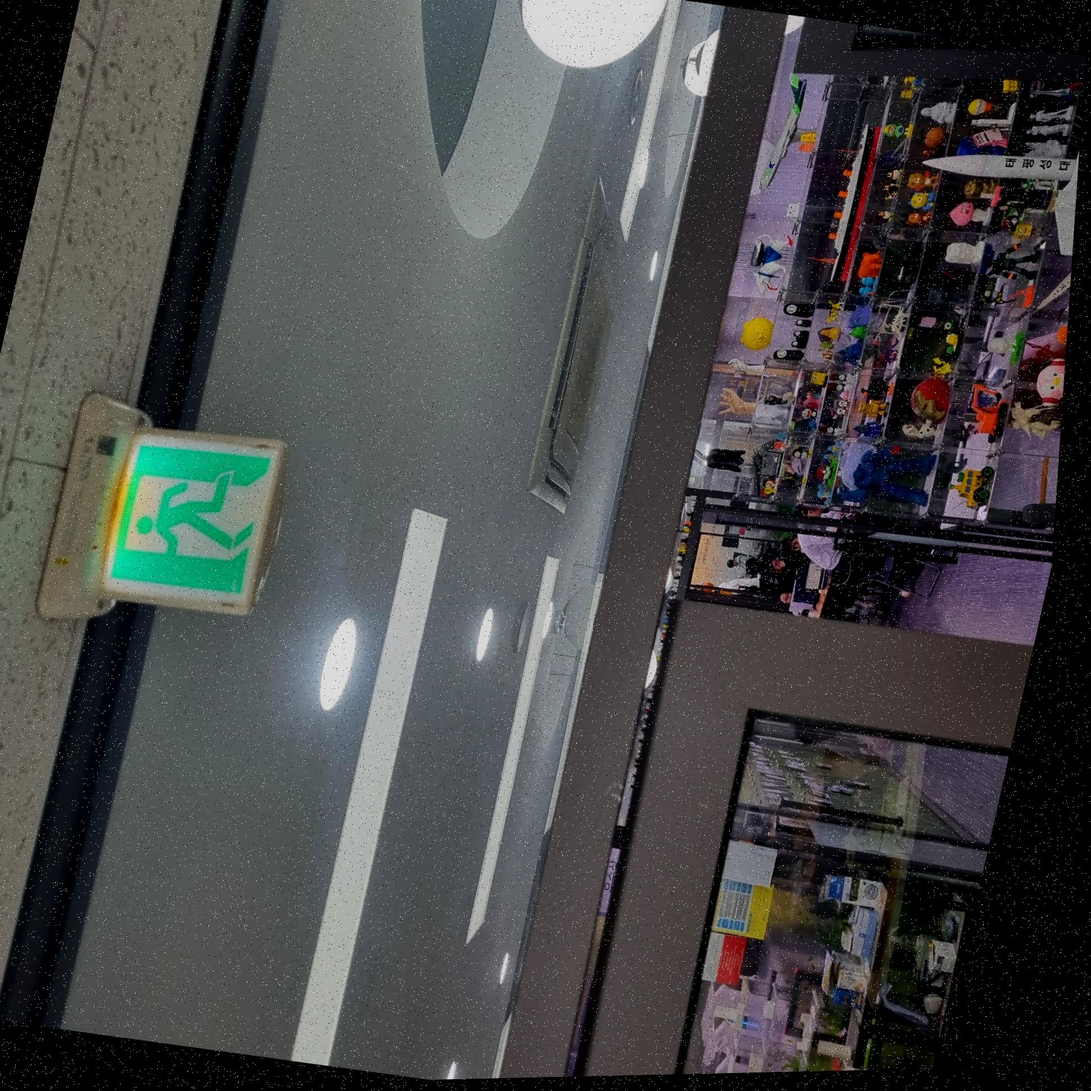emergency_exit: (36, 390, 289, 622), (99, 425, 287, 617)
